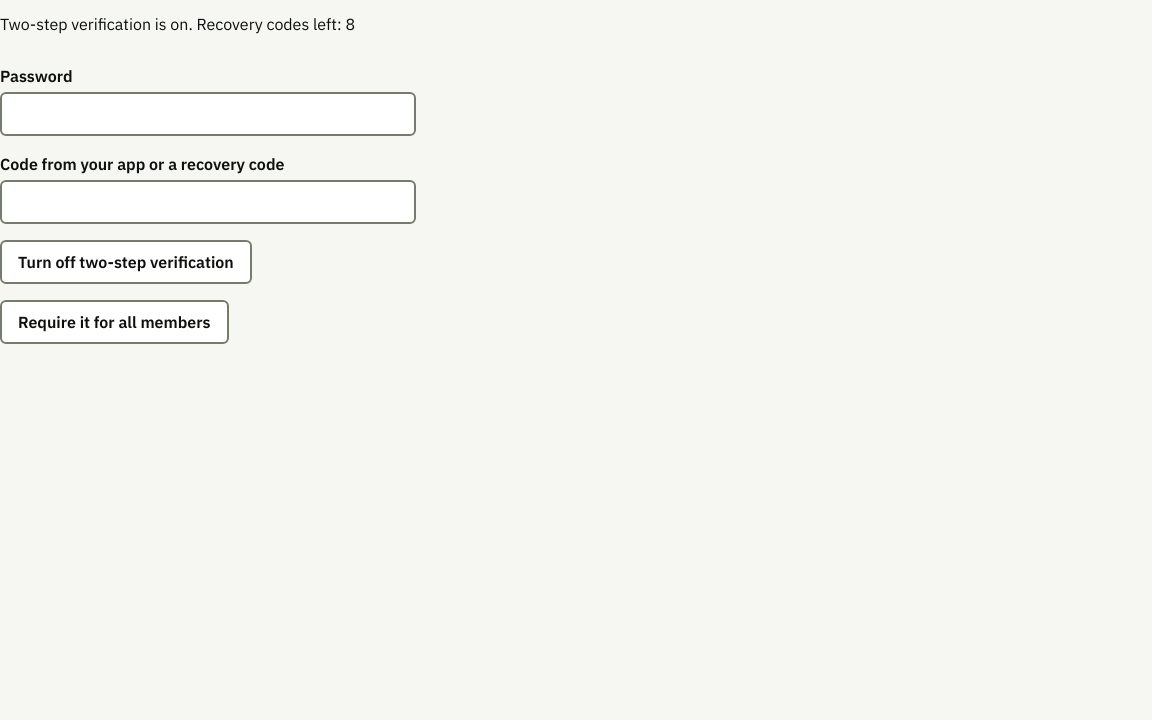
Test case: two-step settings › shows the refusal when turning it off fails
In the password field labelled "Password": (208, 114) [0,92,416,136], type "wrong"
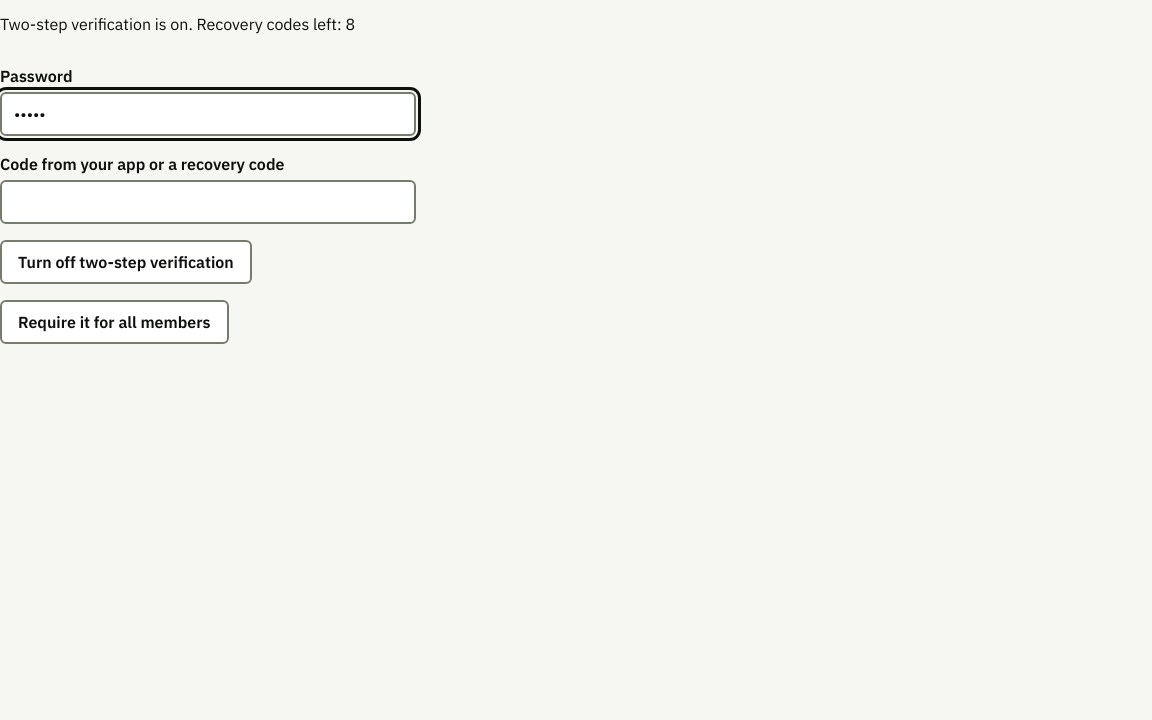
In the field labelled "Code from your app or a recovery code": (208, 202) [0,180,416,224], type "123456"
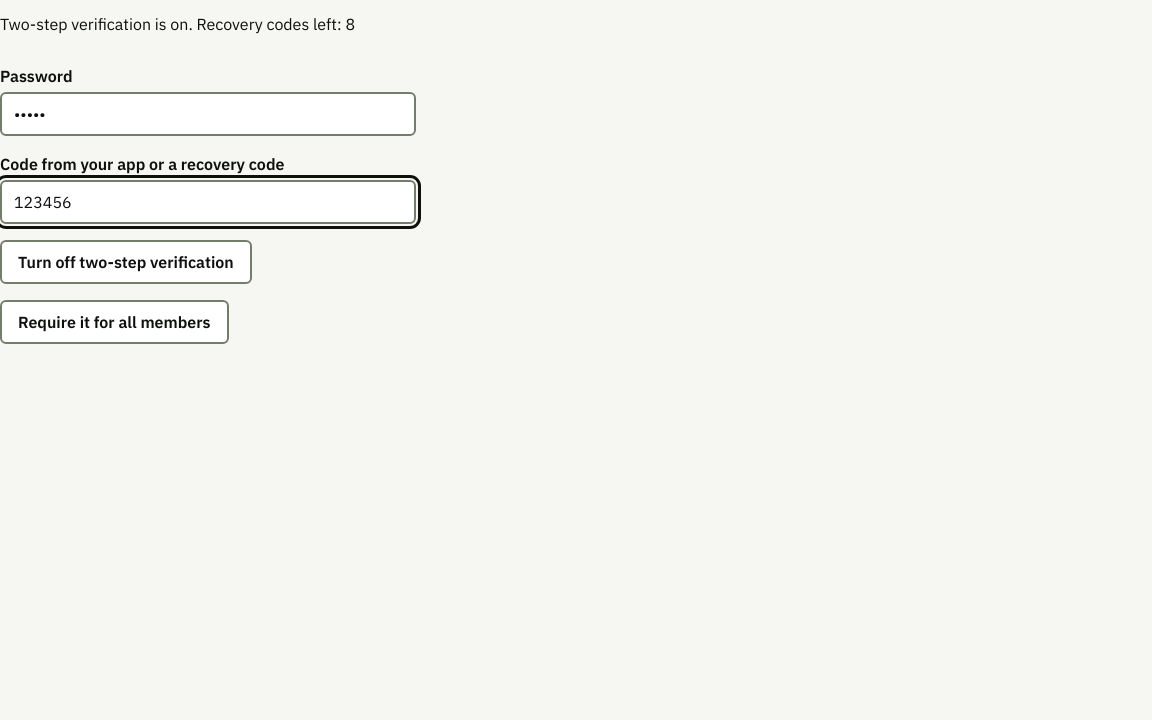
Click the button "Turn off two-step verification": (126, 262) [0,240,252,284]
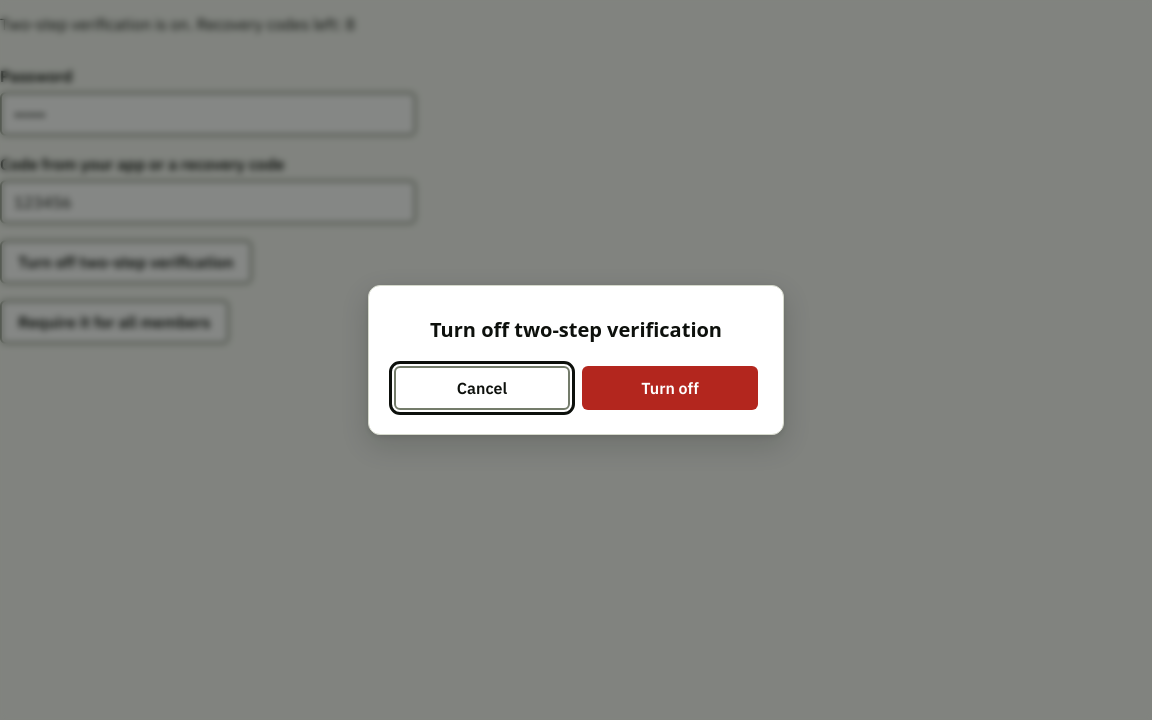
Click the button "Turn off": (670, 388) [582,366,758,410]
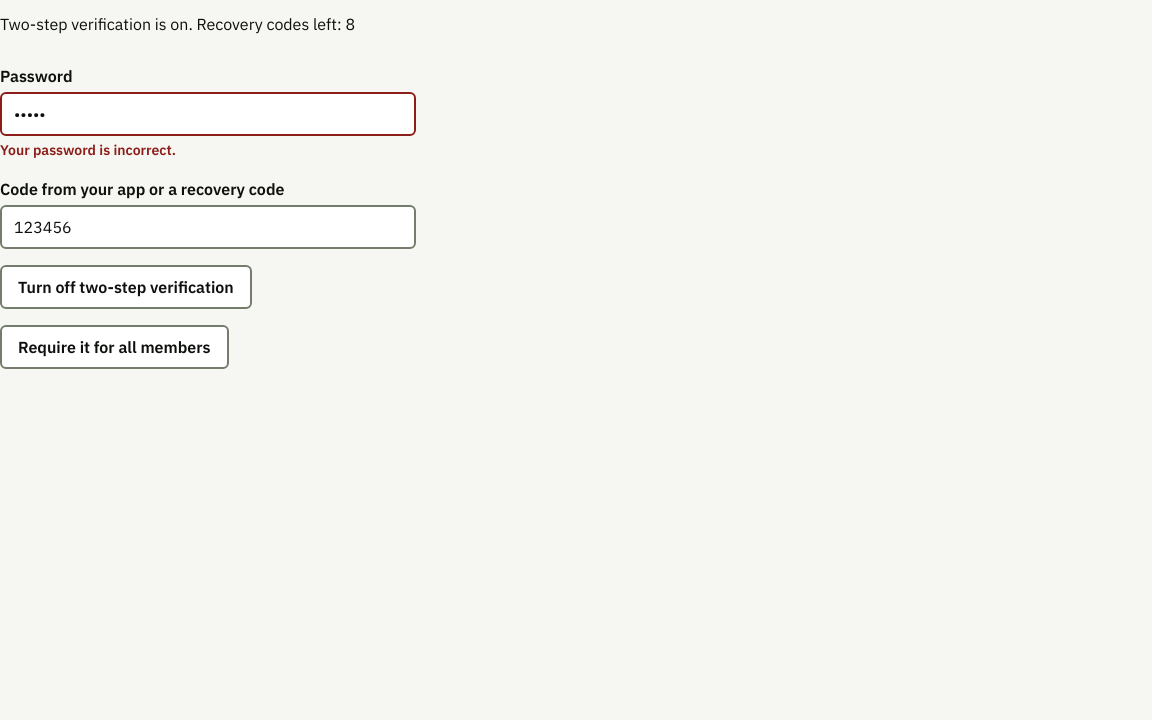
Expected: the text "Your password is incorrect." is shown, [0,140,176,159]
